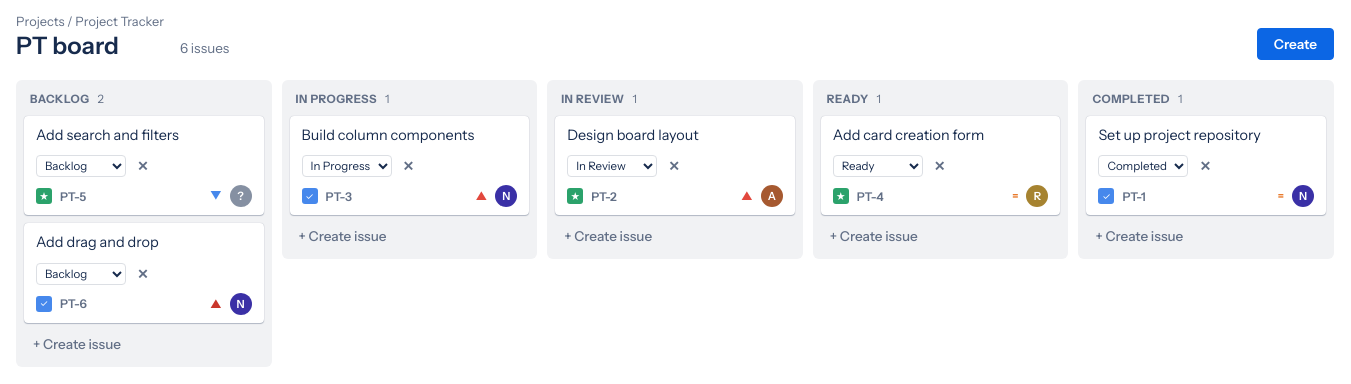
Test case: Creating issues › quick-creates an issue in the column and gives it the next key
Click the button with aria-label "Create issue in Ready".
click(941, 236)  # box [821,221,1060,251]
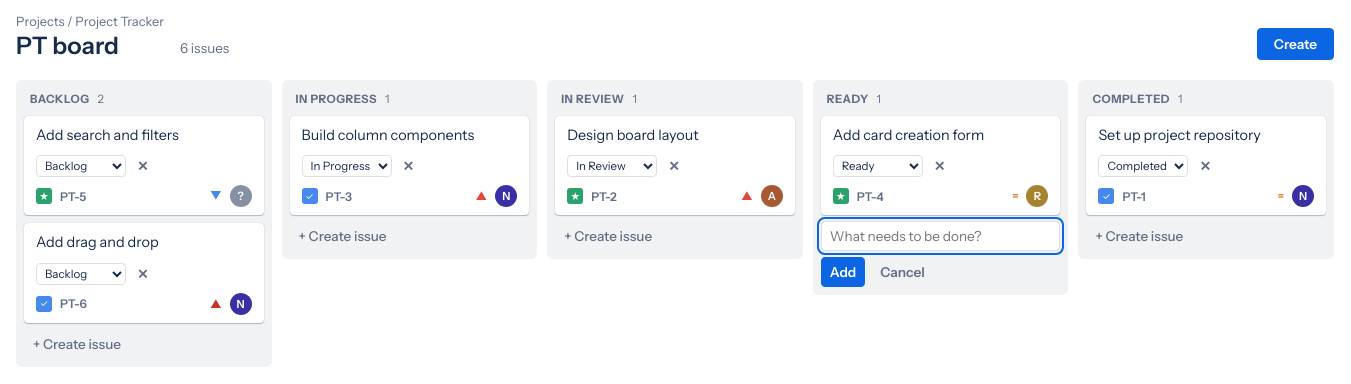
Type "Write release notes" into the field named "Summary for new issue in Ready".
click(941, 236); type("Write release notes")  # box [821,221,1060,251]
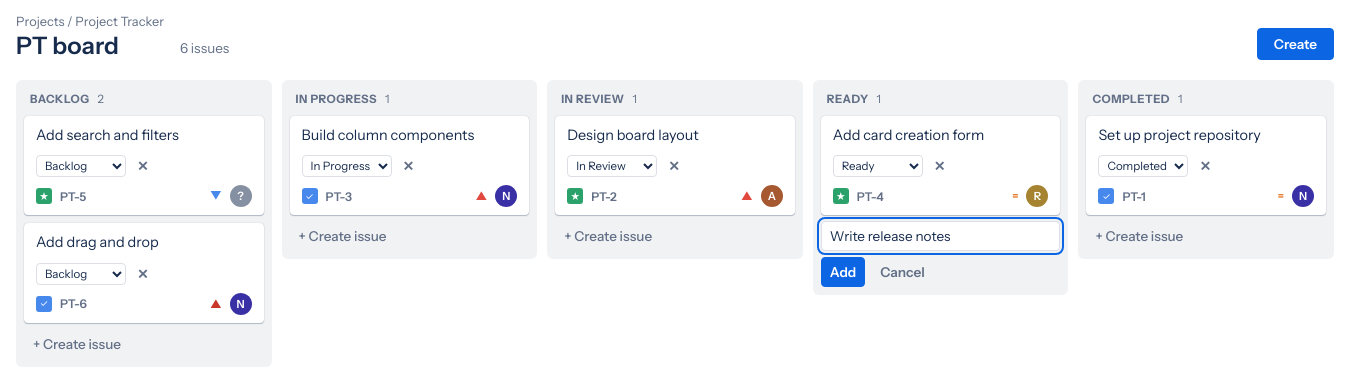
Press Enter
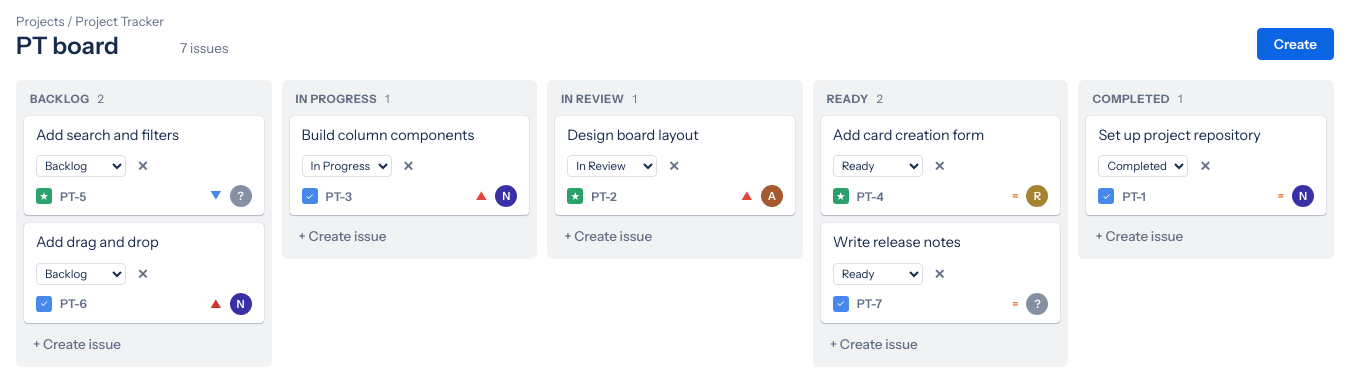
Expected: the text "PT-7" is shown, [857,296,882,311]
